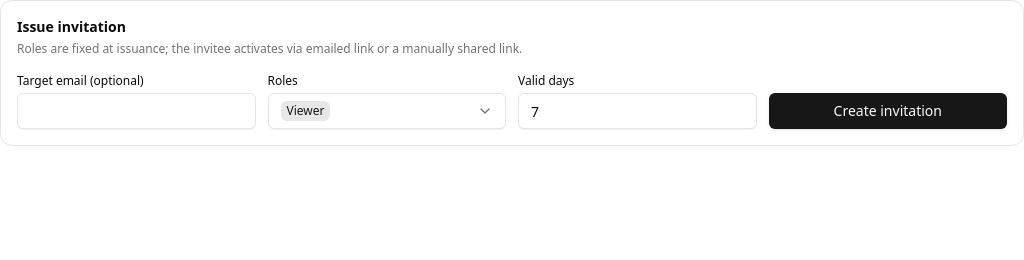
Test: InviteIssueCard › keeps create disabled until at least one role is selected
Expected: the button "Create invitation" is enabled, [768,93,1007,129]
Click the button "Viewer" at (387,111), box [268,93,506,129]
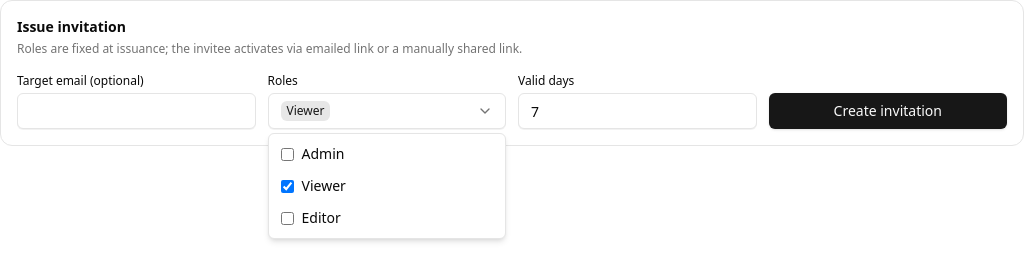
Click the checkbox labelled "Viewer" at (287,186), box [280,180,294,192]
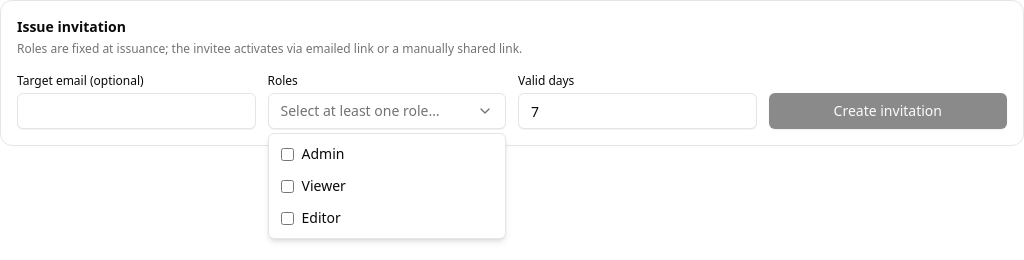
Expected: the button "Create invitation" is disabled, [768,93,1007,129]
